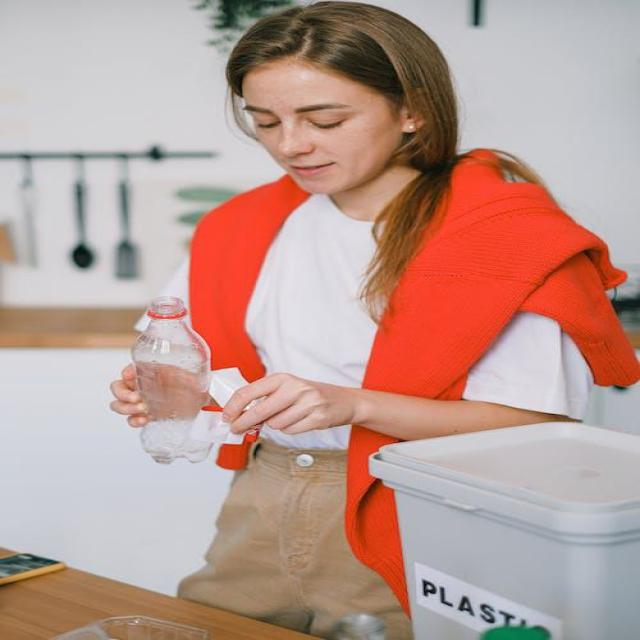plastic: (96, 283, 225, 494)
